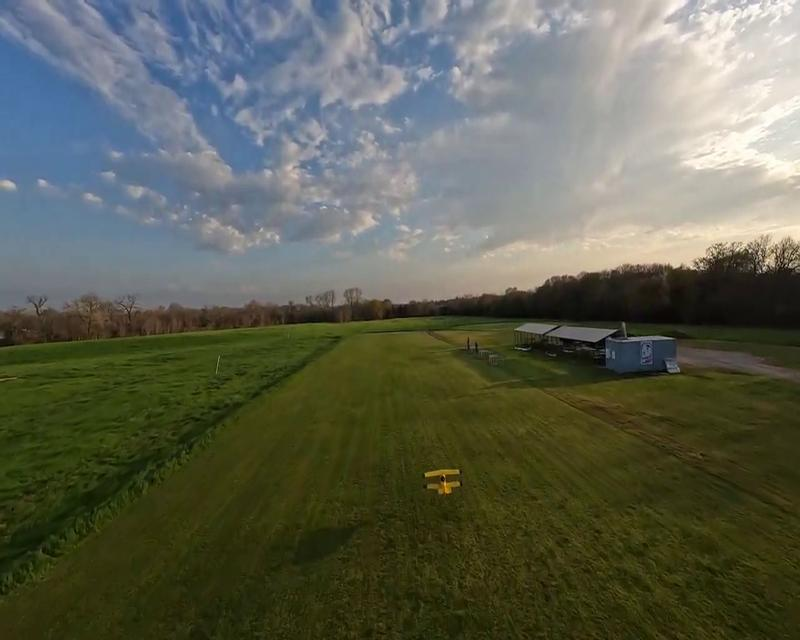UAV: (422, 467, 462, 498)
